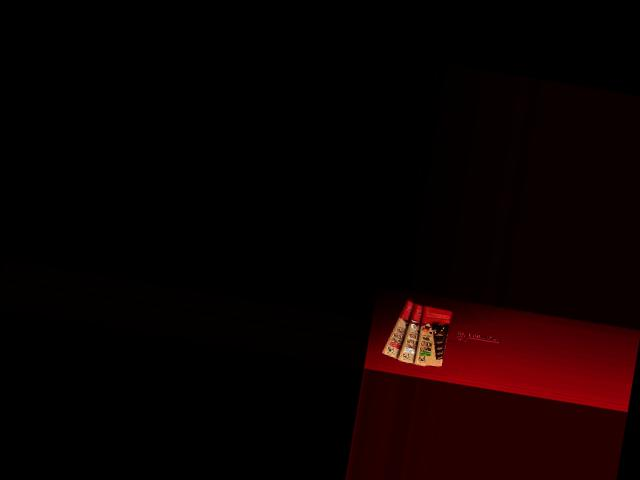chocolate: (380, 294, 421, 364)
